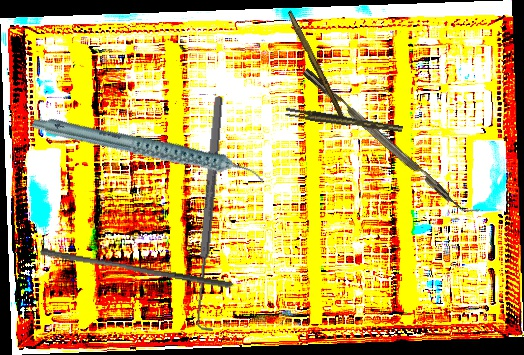Chopper: (302, 59, 481, 224)
Handpiece: (29, 72, 268, 231)
Hook Surgical: (190, 94, 234, 334)
Pusher: (37, 247, 236, 289)
Scalpel Handle: (283, 10, 349, 122)
Tissue Forceps: (284, 103, 404, 139)
